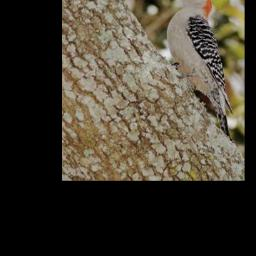Woodpecker: (152, 0, 240, 146)
